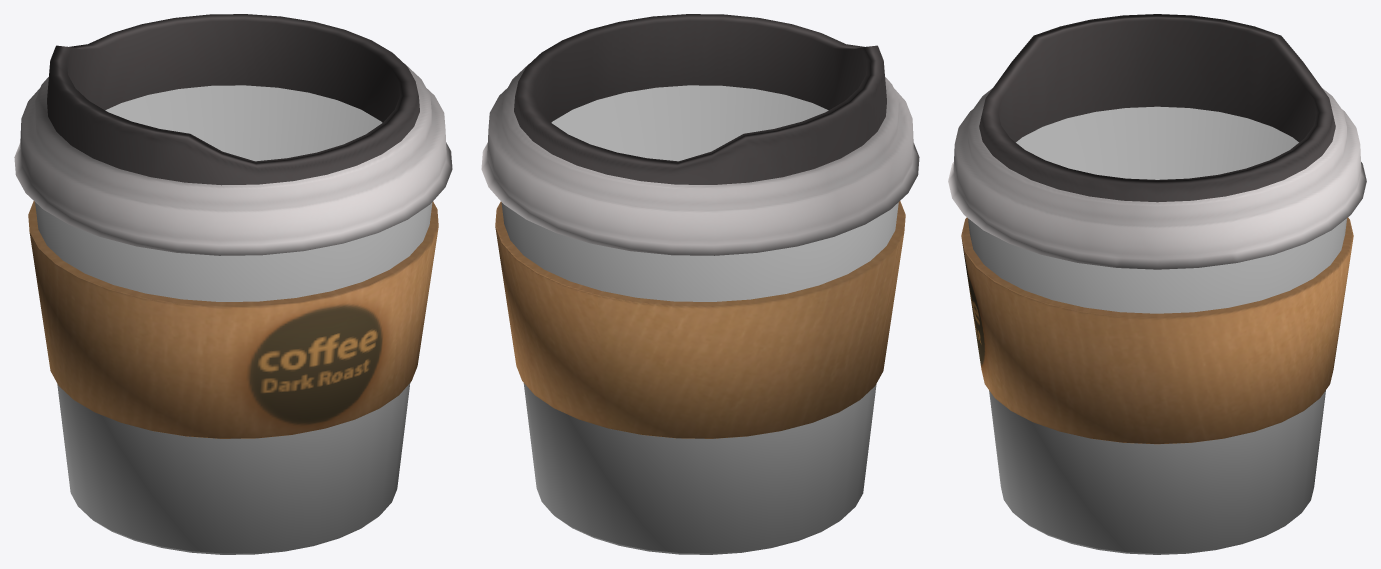
The model's file is 57_Holder_City.fbx.
3 renders of one model, left to right at view 1: azimuth 30°, elevation 25°; view 2: azimuth 150°, elevation 25°; view 3: azimuth 270°, elevation 25°, orthographic. The views are drawn at different scales.
Visible parts, largest first — view 1: City_part2, City_part1; view 2: City_part2, City_part1; view 3: City_part2, City_part1.
Part boxes in pixels (x1,y1,x2,y2): City_part2: [14, 14, 452, 438]; City_part1: [35, 85, 432, 554]; City_part2: [481, 14, 919, 438]; City_part1: [501, 85, 898, 554]; City_part2: [948, 14, 1366, 444]; City_part1: [968, 106, 1346, 554].
Bounding box in the file's own units: 2.55 × 2.7 × 2.55.
